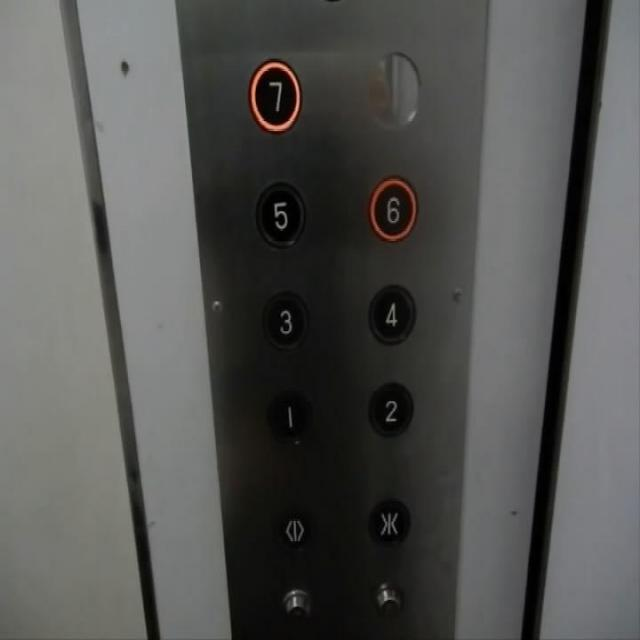1: (263, 380, 313, 446)
2: (364, 374, 414, 440)
3: (258, 284, 310, 352)
4: (364, 279, 416, 347)
5: (250, 175, 308, 249)
6: (362, 170, 420, 243)
7: (244, 54, 304, 136)
close: (365, 492, 411, 549)
empty: (363, 46, 422, 128)
indicator: (276, 581, 314, 628), (367, 578, 405, 624)
open: (271, 499, 317, 555)
